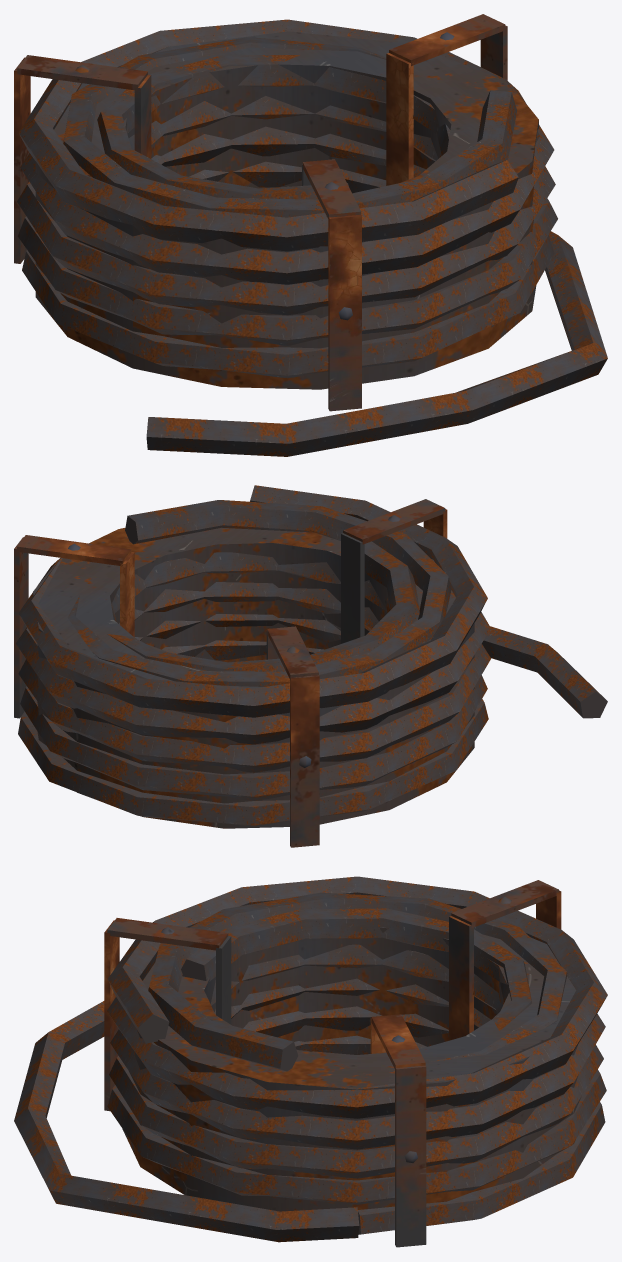
File: Cable_Coil.glb
3 renders of one model, top to bottom at view 1: azimuth 30°, elevation 25°; view 2: azimuth 150°, elevation 25°; view 3: azimuth 270°, elevation 25°, orthographic. The views are drawn at different scales.
Parts seen in each view (by area): view 1: Cable_Coil; view 2: Cable_Coil; view 3: Cable_Coil.
Part boxes in pixels (bbox=[...]): Cable_Coil: bbox=[14, 14, 607, 456]; Cable_Coil: bbox=[14, 485, 607, 847]; Cable_Coil: bbox=[14, 876, 607, 1247].
Bounding box in the file's own units: 1.08 × 0.401 × 1.16.
3 materials, 3 textured.
